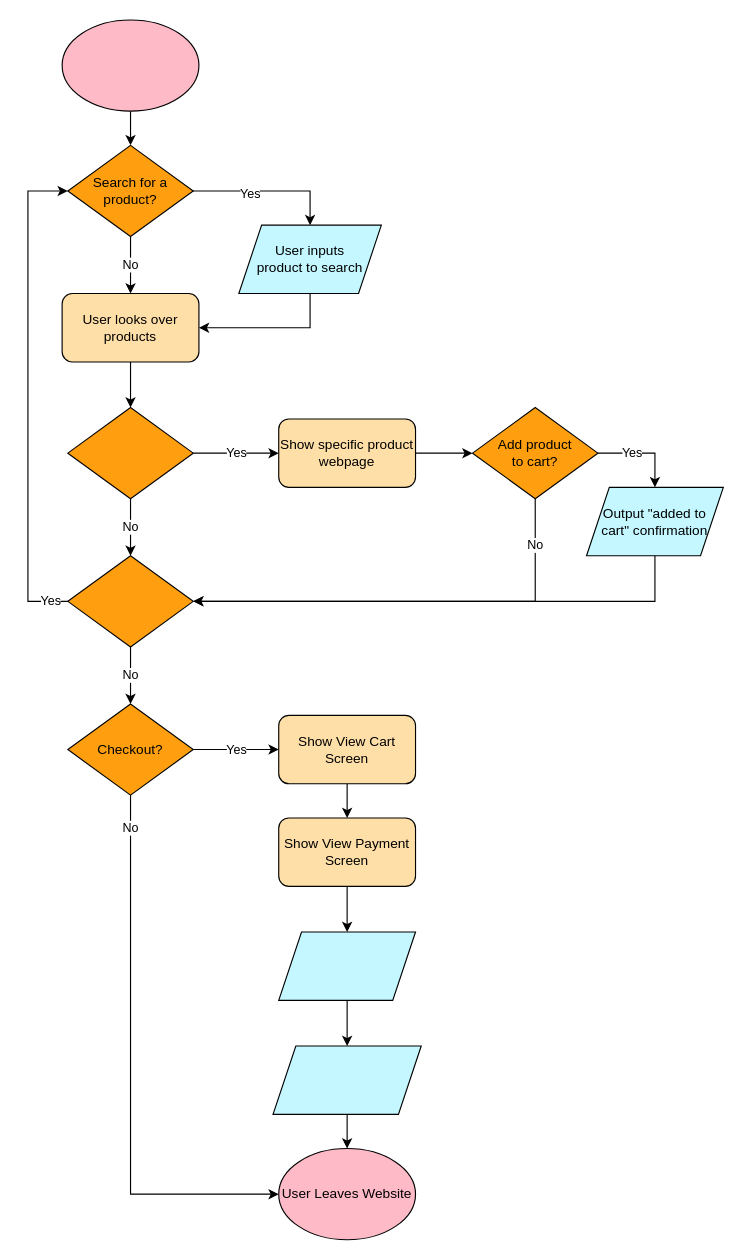
Image size: 743x1260. Some labels were removed from this diagram. Each missing label, with the box of its shape:
Continue shopping?: (67, 555, 193, 647)
Show order confirmation screen/send email: (272, 1045, 421, 1114)
User Enters Website: (61, 19, 199, 111)
User inputs payment info: (278, 931, 416, 1000)
View a specific product?: (67, 406, 193, 499)
